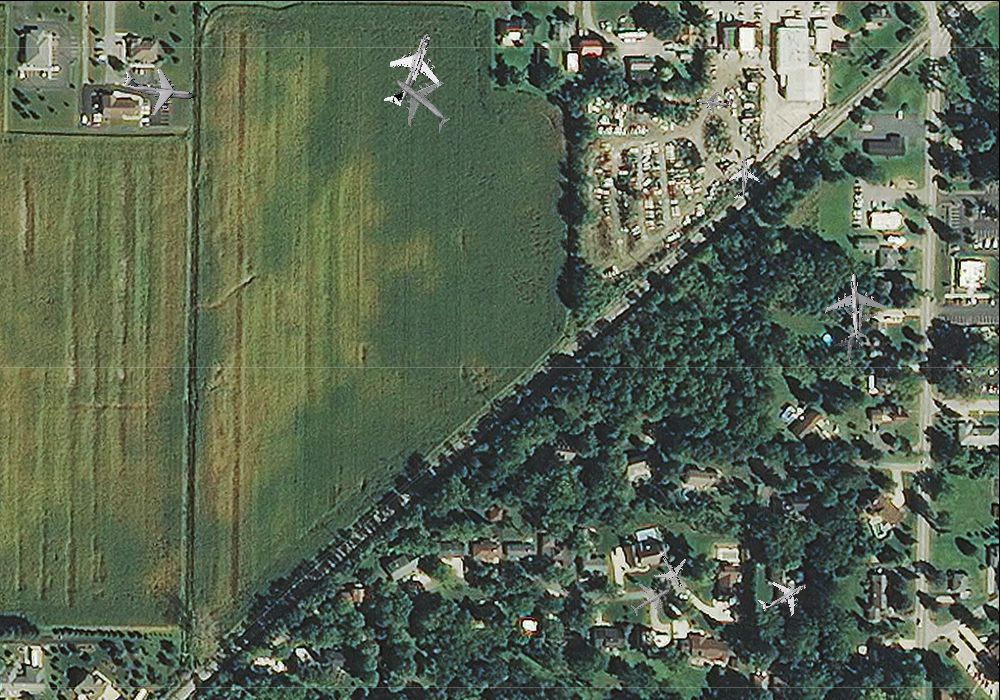plane: (364, 19, 457, 118), (375, 57, 468, 148), (119, 52, 198, 123), (750, 563, 817, 629), (824, 271, 888, 340), (622, 572, 680, 629), (643, 543, 697, 597), (830, 324, 872, 368), (723, 155, 762, 200), (842, 293, 882, 334), (694, 83, 735, 119)
